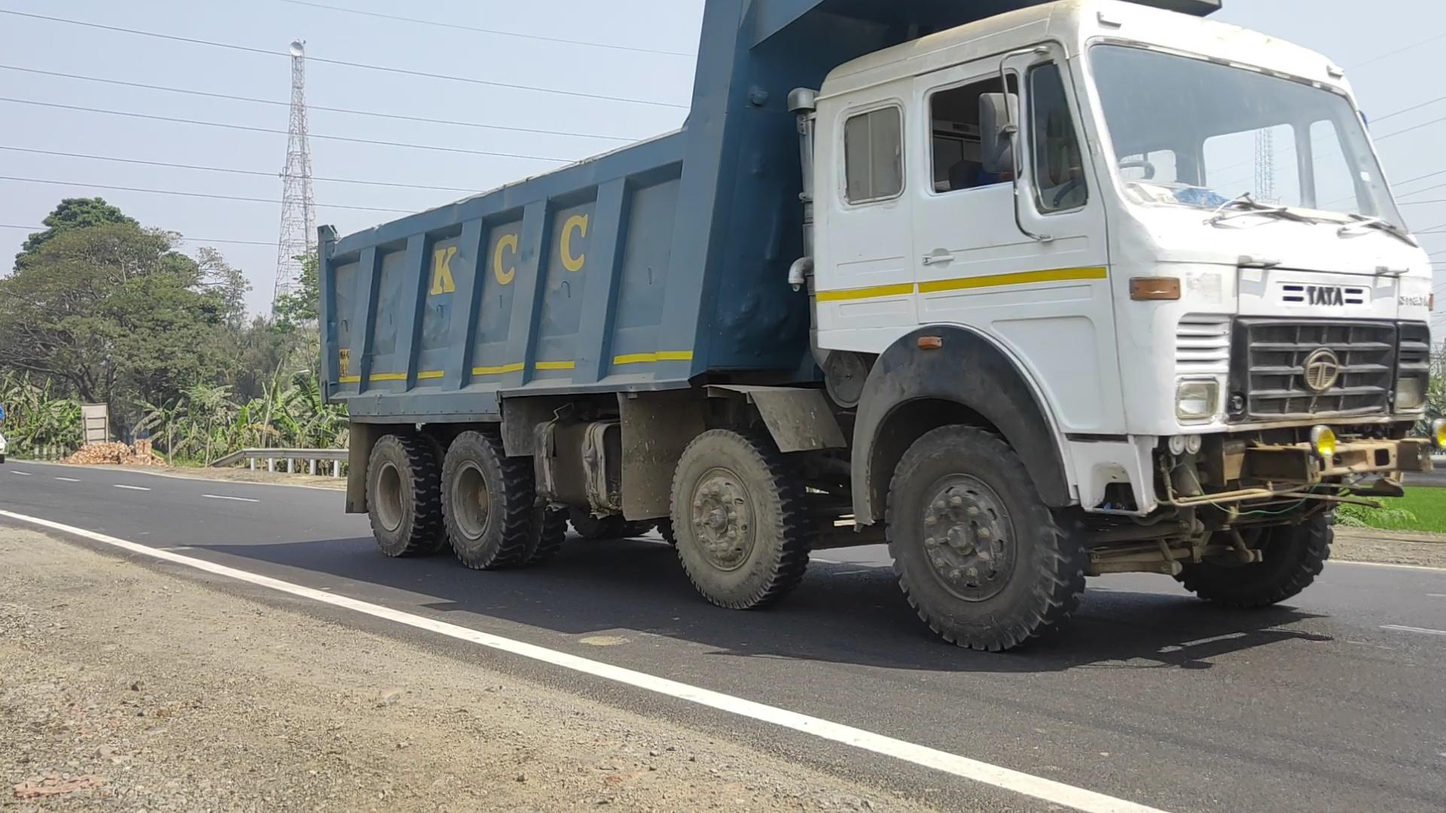truck: (316, 2, 1446, 655)
